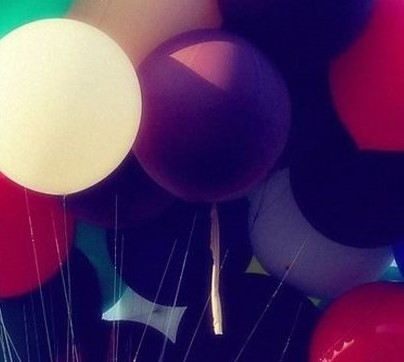Balloon: (132, 29, 291, 202), (1, 18, 142, 196), (101, 198, 251, 305), (329, 1, 404, 147)
